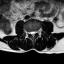CCS_normal: (32, 29, 34, 38)
LFS_normal: (36, 28, 38, 35)
LLS_normal: (34, 28, 36, 36)
RFS_normal: (27, 29, 29, 36)
RLS_normal: (29, 29, 32, 36)
